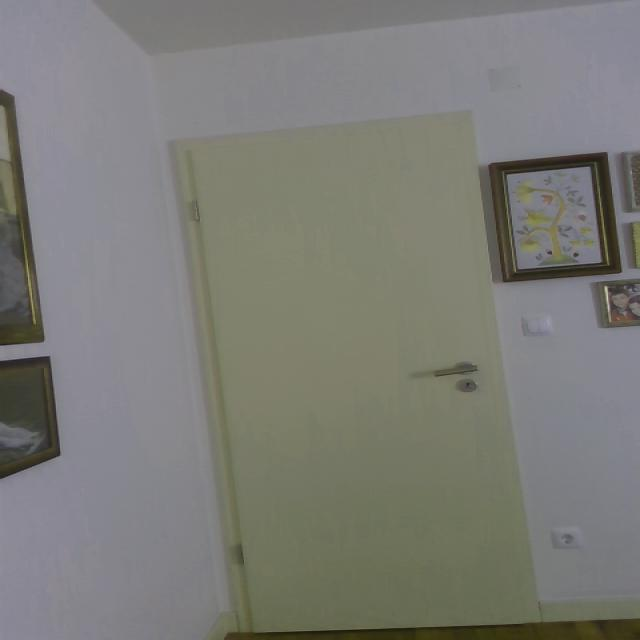door: (162, 110, 548, 639)
